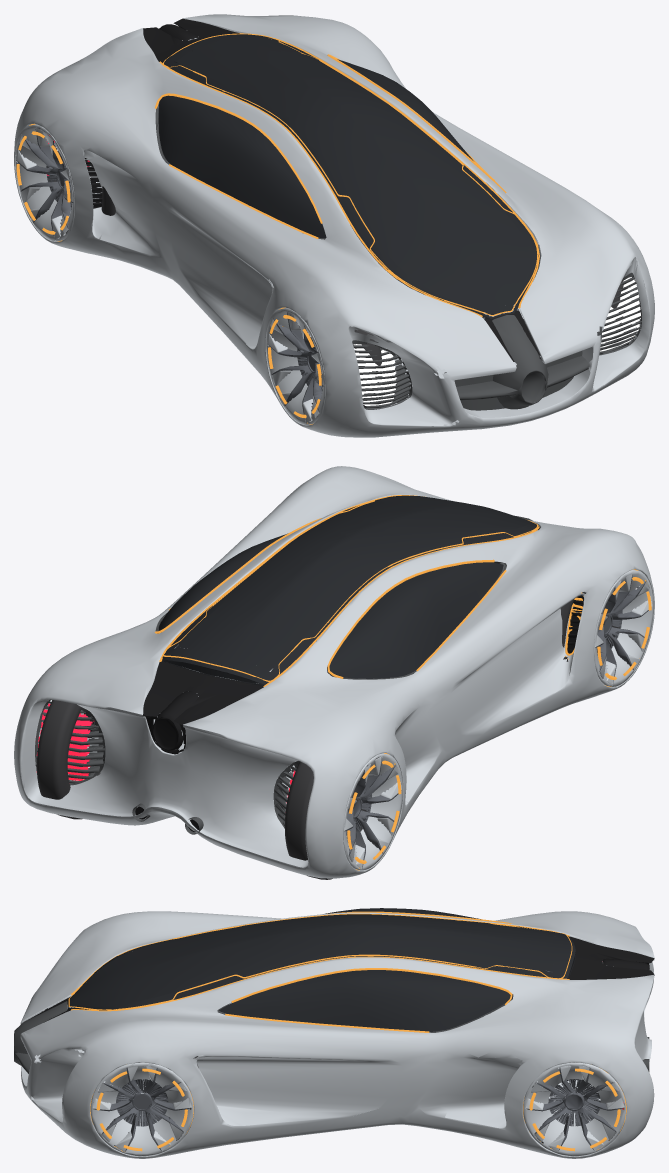
Rendered from chrysalis_rig.glb.
3 views of the same model, one above another, from view 1: azimuth 30°, elevation 25°; view 2: azimuth 150°, elevation 25°; view 3: azimuth 270°, elevation 25° (orthographic). The views are drawn at different scales.
Visible parts, largest first — view 1: Body_mesh, Wheel_FR_mesh, Wheel_RR_mesh; view 2: Body_mesh, Wheel_RR_mesh, Wheel_RL_mesh, Wheel_FR_mesh; view 3: Body_mesh, Wheel_FL_mesh, Wheel_RL_mesh.
Part boxes in pixels (left/top/right/bottom): Body_mesh: left=14, top=14, right=654, bottom=437; Wheel_FR_mesh: left=268, top=312, right=382, bottom=419; Wheel_RR_mesh: left=16, top=128, right=115, bottom=237; Body_mesh: left=14, top=466, right=654, bottom=878; Wheel_RR_mesh: left=284, top=757, right=401, bottom=879; Wheel_RL_mesh: left=36, top=700, right=105, bottom=819; Wheel_FR_mesh: left=560, top=575, right=651, bottom=682; Body_mesh: left=14, top=908, right=654, bottom=1158; Wheel_FL_mesh: left=93, top=1056, right=198, bottom=1151; Wheel_RL_mesh: left=526, top=1067, right=624, bottom=1151.
Size of the model in its own units: 2.54 by 1.49 by 4.9.
